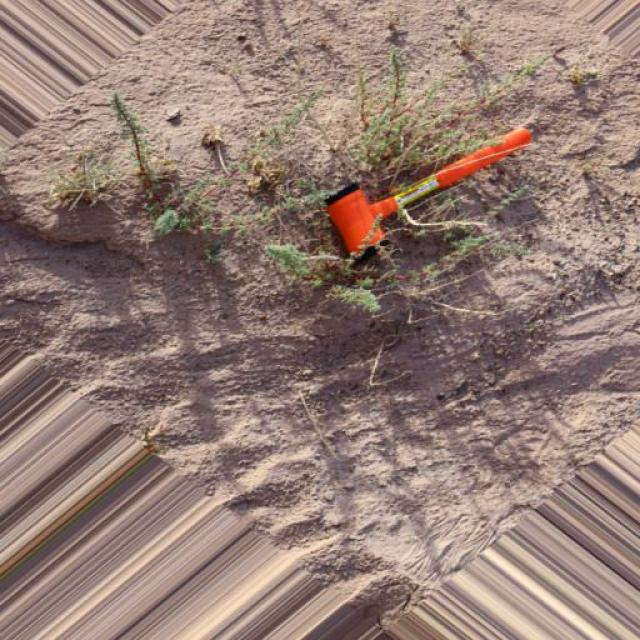mallet: (325, 124, 535, 260)
